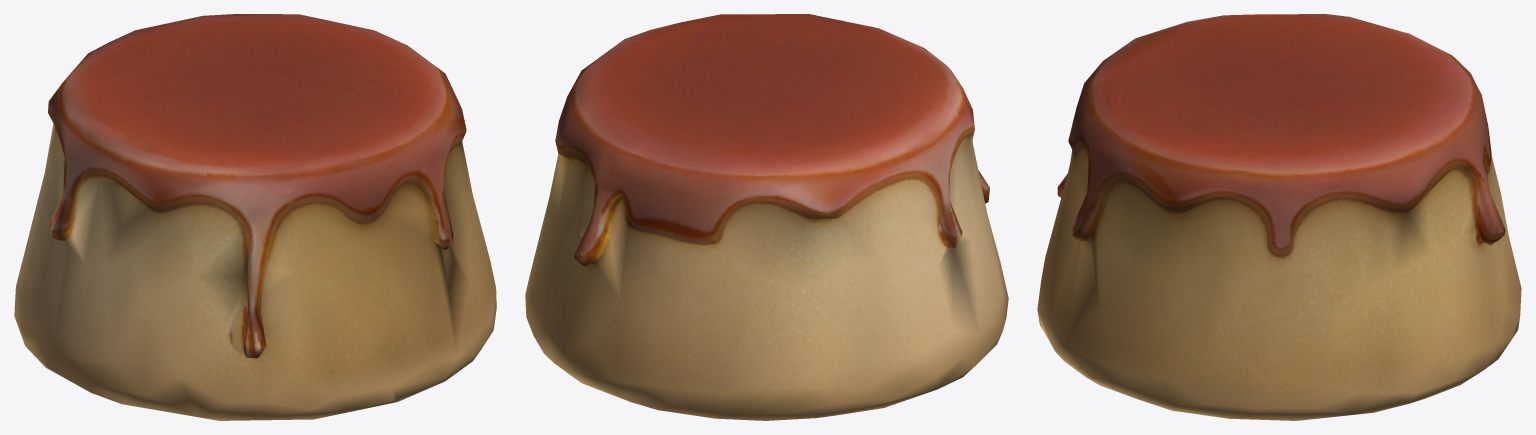
The model's file is Food_Pudding.fbx.
The picture shows the model from 3 angles, left to right: view 1: azimuth 30°, elevation 25°; view 2: azimuth 150°, elevation 25°; view 3: azimuth 270°, elevation 25°; orthographic projection.
Parts seen in each view (by area): view 1: Food_Pudding; view 2: Food_Pudding; view 3: Food_Pudding.
Boxes of the visible parts, x1,y1,x2,y2 form: Food_Pudding: (14, 14, 496, 420); Food_Pudding: (525, 14, 1008, 420); Food_Pudding: (1037, 14, 1521, 420).
Size of the model in its own units: 0.2592 by 0.1451 by 0.26.
1 material, 1 textured.
